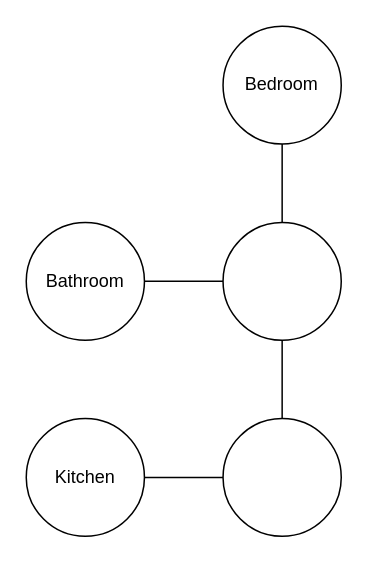
Image size: 368x563. Some labels were removed from this diagram. Each missing label, with the box of its shape:
Hallway: (222, 221, 341, 340)
Living room: (222, 417, 341, 536)
